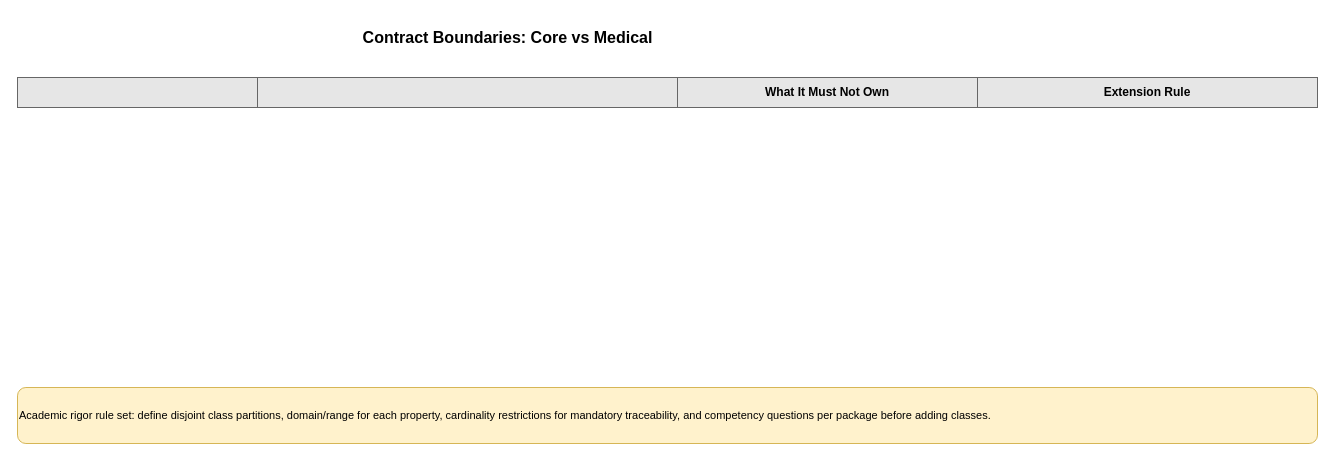
Image size: 1335x461. Some labels were removed from this diagram. Each missing label, with the centre of its shape:
"Package" goes at (x=137, y=92).
"What It Owns" goes at (x=467, y=92).
